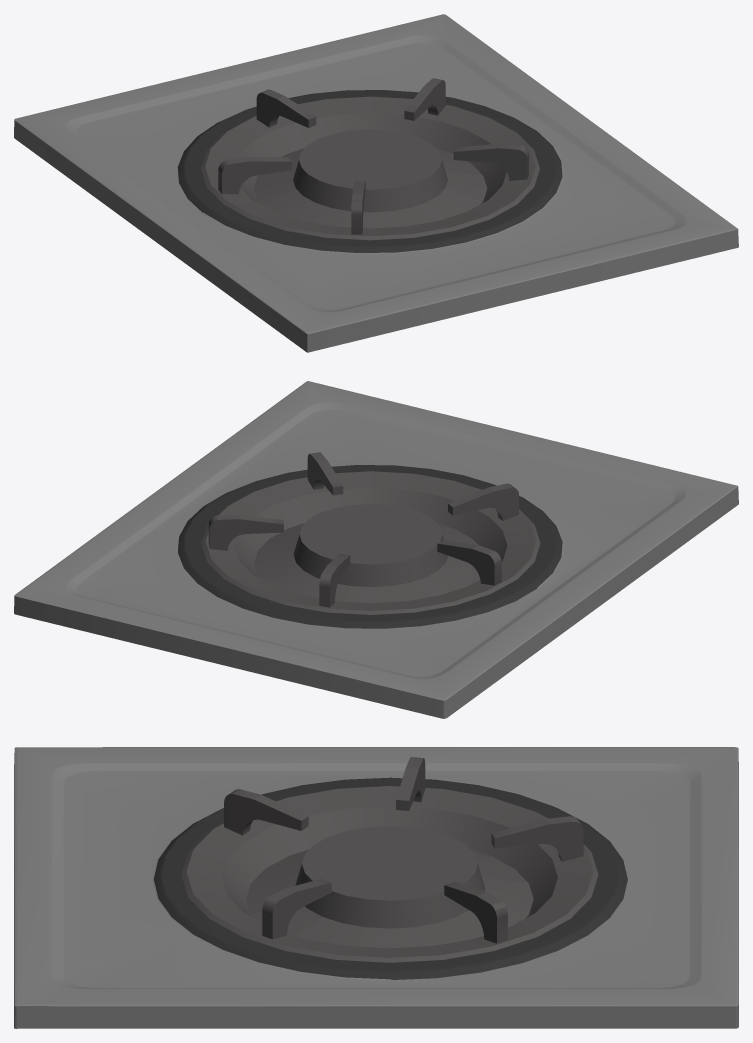
File: Cooker.fbx
3 renders of one model, top to bottom at view 1: azimuth 30°, elevation 25°; view 2: azimuth 150°, elevation 25°; view 3: azimuth 270°, elevation 25°, orthographic. The views are drawn at different scales.
Parts seen in each view (by area): view 1: Lower, Upper; view 2: Lower, Upper; view 3: Lower, Upper.
Boxes of the visible parts, <box> form: Lower: <box>14,14,738,352</box>; Upper: <box>201,78,539,240</box>; Lower: <box>14,381,738,718</box>; Upper: <box>201,452,540,614</box>; Lower: <box>14,747,738,1028</box>; Upper: <box>181,757,598,962</box>.
Size of the model in its own units: 0.3258 by 0.0363 by 0.3842.
